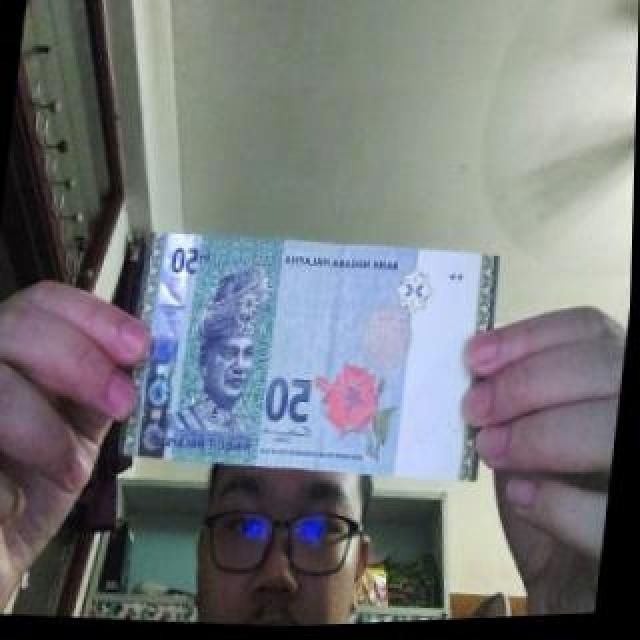50 Ringgit: (114, 212, 513, 510)
